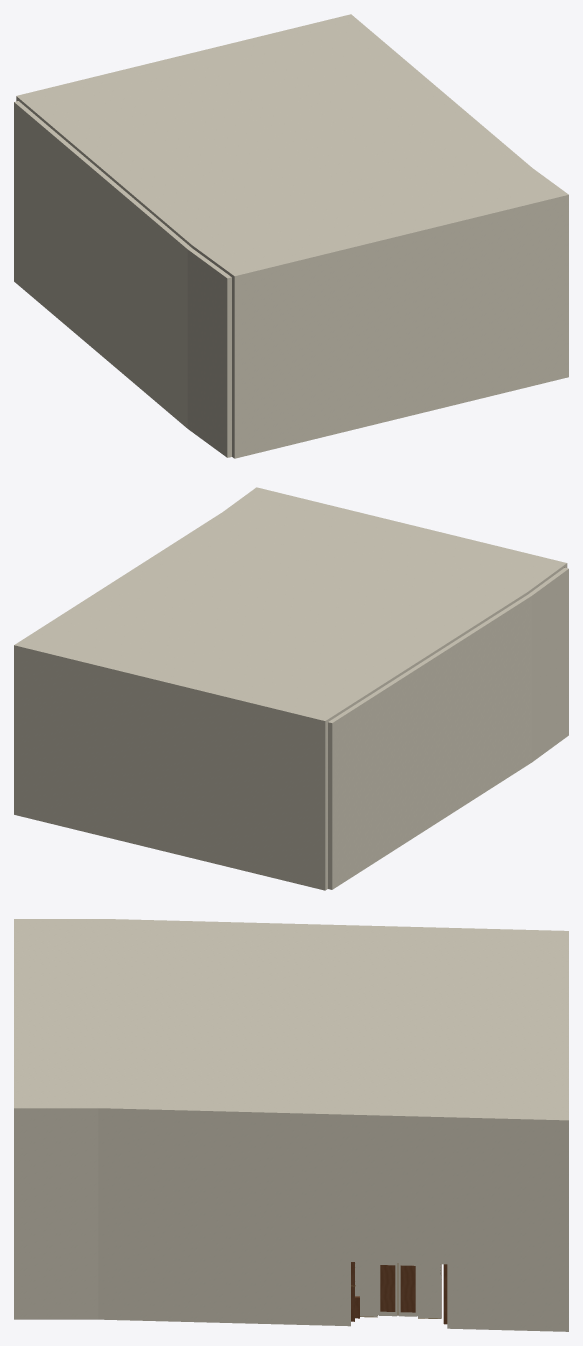
3 renders of one model, top to bottom at view 1: azimuth 30°, elevation 25°; view 2: azimuth 150°, elevation 25°; view 3: azimuth 270°, elevation 25°, orthographic. The views are drawn at different scales.
Visible parts, largest first — view 1: PavilionRoof, AftPartyWall, HeldFrontageOpaqueEnclosure, InnerAftPartyReturn; view 2: PavilionRoof, ForePartyWall, HeldFrontageOpaqueEnclosure, InnerForePartyReturn; view 3: PavilionRoof, InnerAftPartyReturn, InnerForePartyReturn, ArrivalHeader, PrivateEntry_01_ENTRY_PocketSkin_-1_1, PrivateEntry_01_ENTRY_PocketSkin_1_1, PrivateEntry_01_ENTRY_TimberInset_LEFT_1, PrivateEntry_01_ENTRY_TimberInset_RIGHT_1, AftPartyWall.
Part boxes in pixels (x1=…): PavilionRoof: x1=16, y1=14, x2=568, y2=279; AftPartyWall: x1=232, y1=198, x2=568, y2=458; HeldFrontageOpaqueEnclosure: x1=14, y1=101, x2=231, y2=457; InnerAftPartyReturn: x1=564, y1=198, x2=568, y2=378; PavilionRoof: x1=14, y1=487, x2=567, y2=723; ForePartyWall: x1=14, y1=648, x2=327, y2=890; HeldFrontageOpaqueEnclosure: x1=328, y1=567, x2=568, y2=889; InnerForePartyReturn: x1=14, y1=648, x2=18, y2=814; PavilionRoof: x1=14, y1=919, x2=568, y2=1123; InnerAftPartyReturn: x1=14, y1=1111, x2=350, y2=1326; InnerForePartyReturn: x1=447, y1=1120, x2=568, y2=1331; ArrivalHeader: x1=351, y1=1118, x2=447, y2=1264; PrivateEntry_01_ENTRY_PocketSkin_-1_1: x1=418, y1=1263, x2=441, y2=1318; PrivateEntry_01_ENTRY_PocketSkin_1_1: x1=355, y1=1262, x2=377, y2=1316; PrivateEntry_01_ENTRY_TimberInset_LEFT_1: x1=400, y1=1265, x2=415, y2=1312; PrivateEntry_01_ENTRY_TimberInset_RIGHT_1: x1=380, y1=1265, x2=395, y2=1311; AftPartyWall: x1=14, y1=1111, x2=19, y2=1319.
Size of the model in its own units: 19.02 by 9.2 by 21.88.
192 materials, 185 textured.
